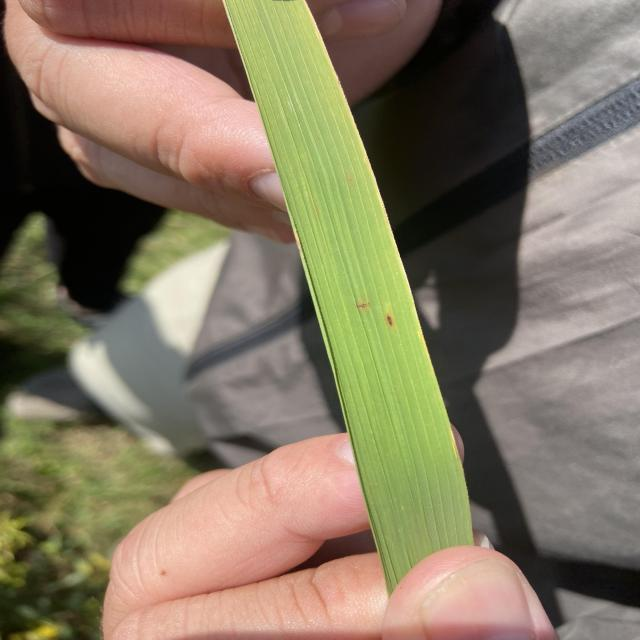Dom nau: (387, 316, 393, 326), (356, 303, 367, 308)
